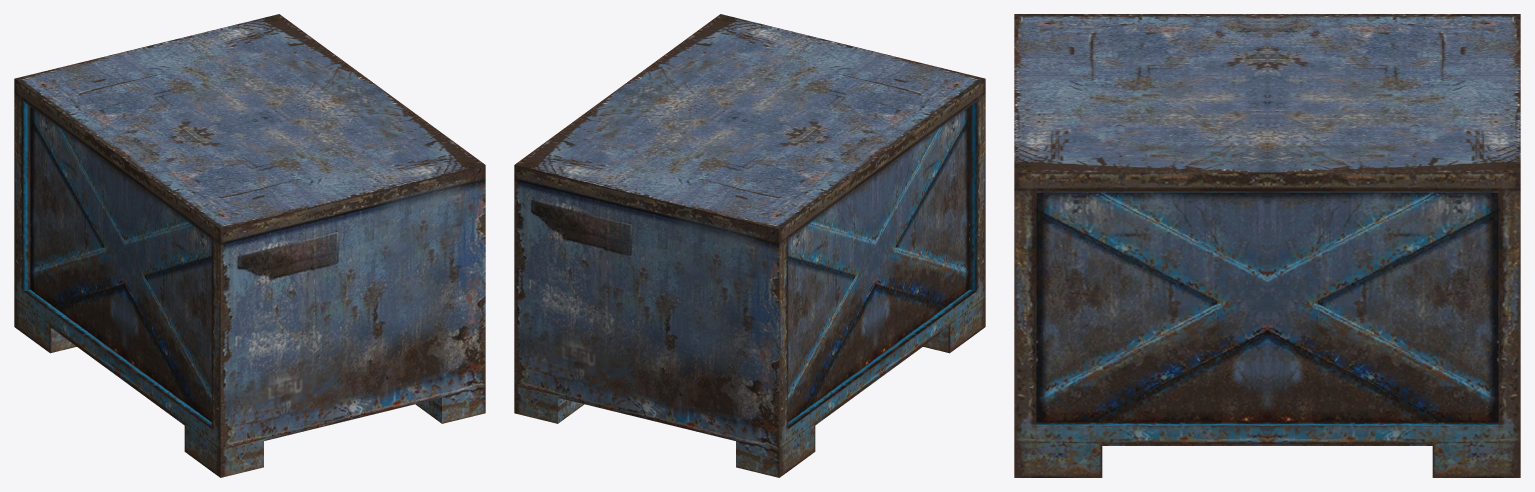
Rendered from Container.glb.
The picture shows the model from 3 angles, left to right: view 1: azimuth 30°, elevation 25°; view 2: azimuth 150°, elevation 25°; view 3: azimuth 270°, elevation 25°; orthographic projection. The views are drawn at different scales.
Visible parts, largest first — view 1: Container; view 2: Container; view 3: Container.
Boxes of the visible parts, x1=… form: Container: x1=14, y1=14, x2=485, y2=477; Container: x1=514, y1=14, x2=985, y2=477; Container: x1=1014, y1=14, x2=1520, y2=477.
Size of the model in its own units: 1.68 by 1.5 by 2.26.
1 material, 1 textured.
